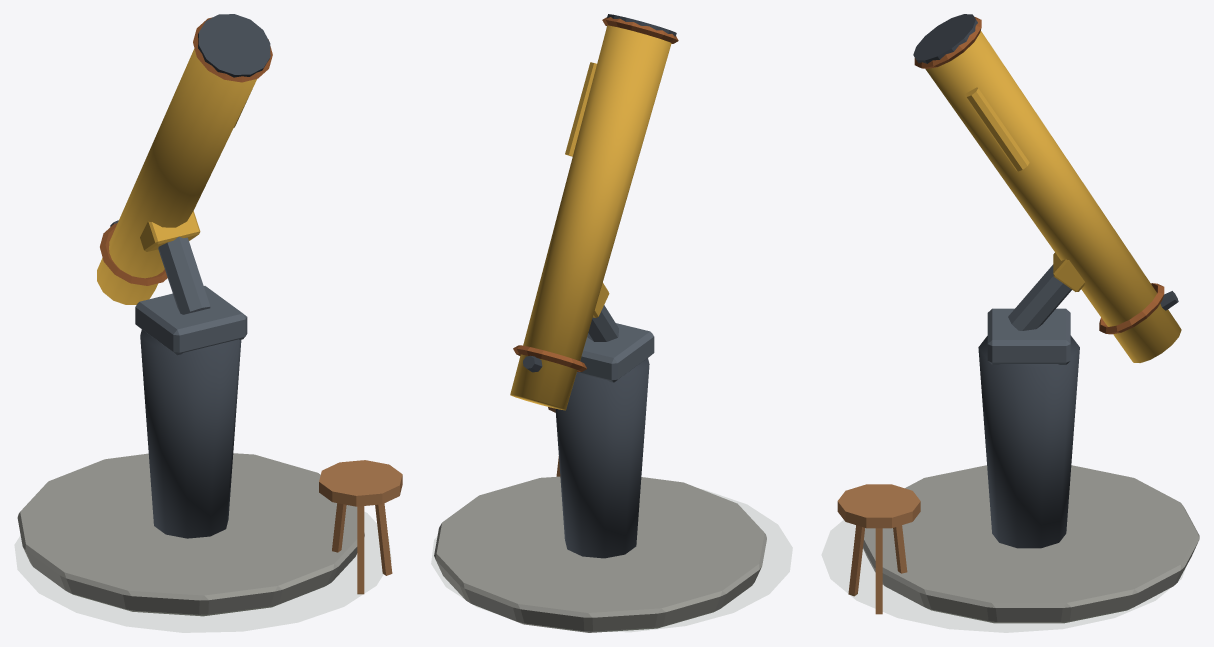
Rendered from telescope.glb.
3 views of the same model, side by side, from view 1: azimuth 30°, elevation 25°; view 2: azimuth 150°, elevation 25°; view 3: azimuth 270°, elevation 25° (orthographic). The views are drawn at different scales.
Parts seen in each view (by area): view 1: telescope; view 2: telescope; view 3: telescope.
Boxes of the visible parts, box(x1,y1,x2,y2) form: telescope: box(17, 14, 402, 616); telescope: box(434, 14, 766, 632); telescope: box(837, 14, 1199, 623).
Bounding box in the file's own units: 1.6 × 2.58 × 1.64.
